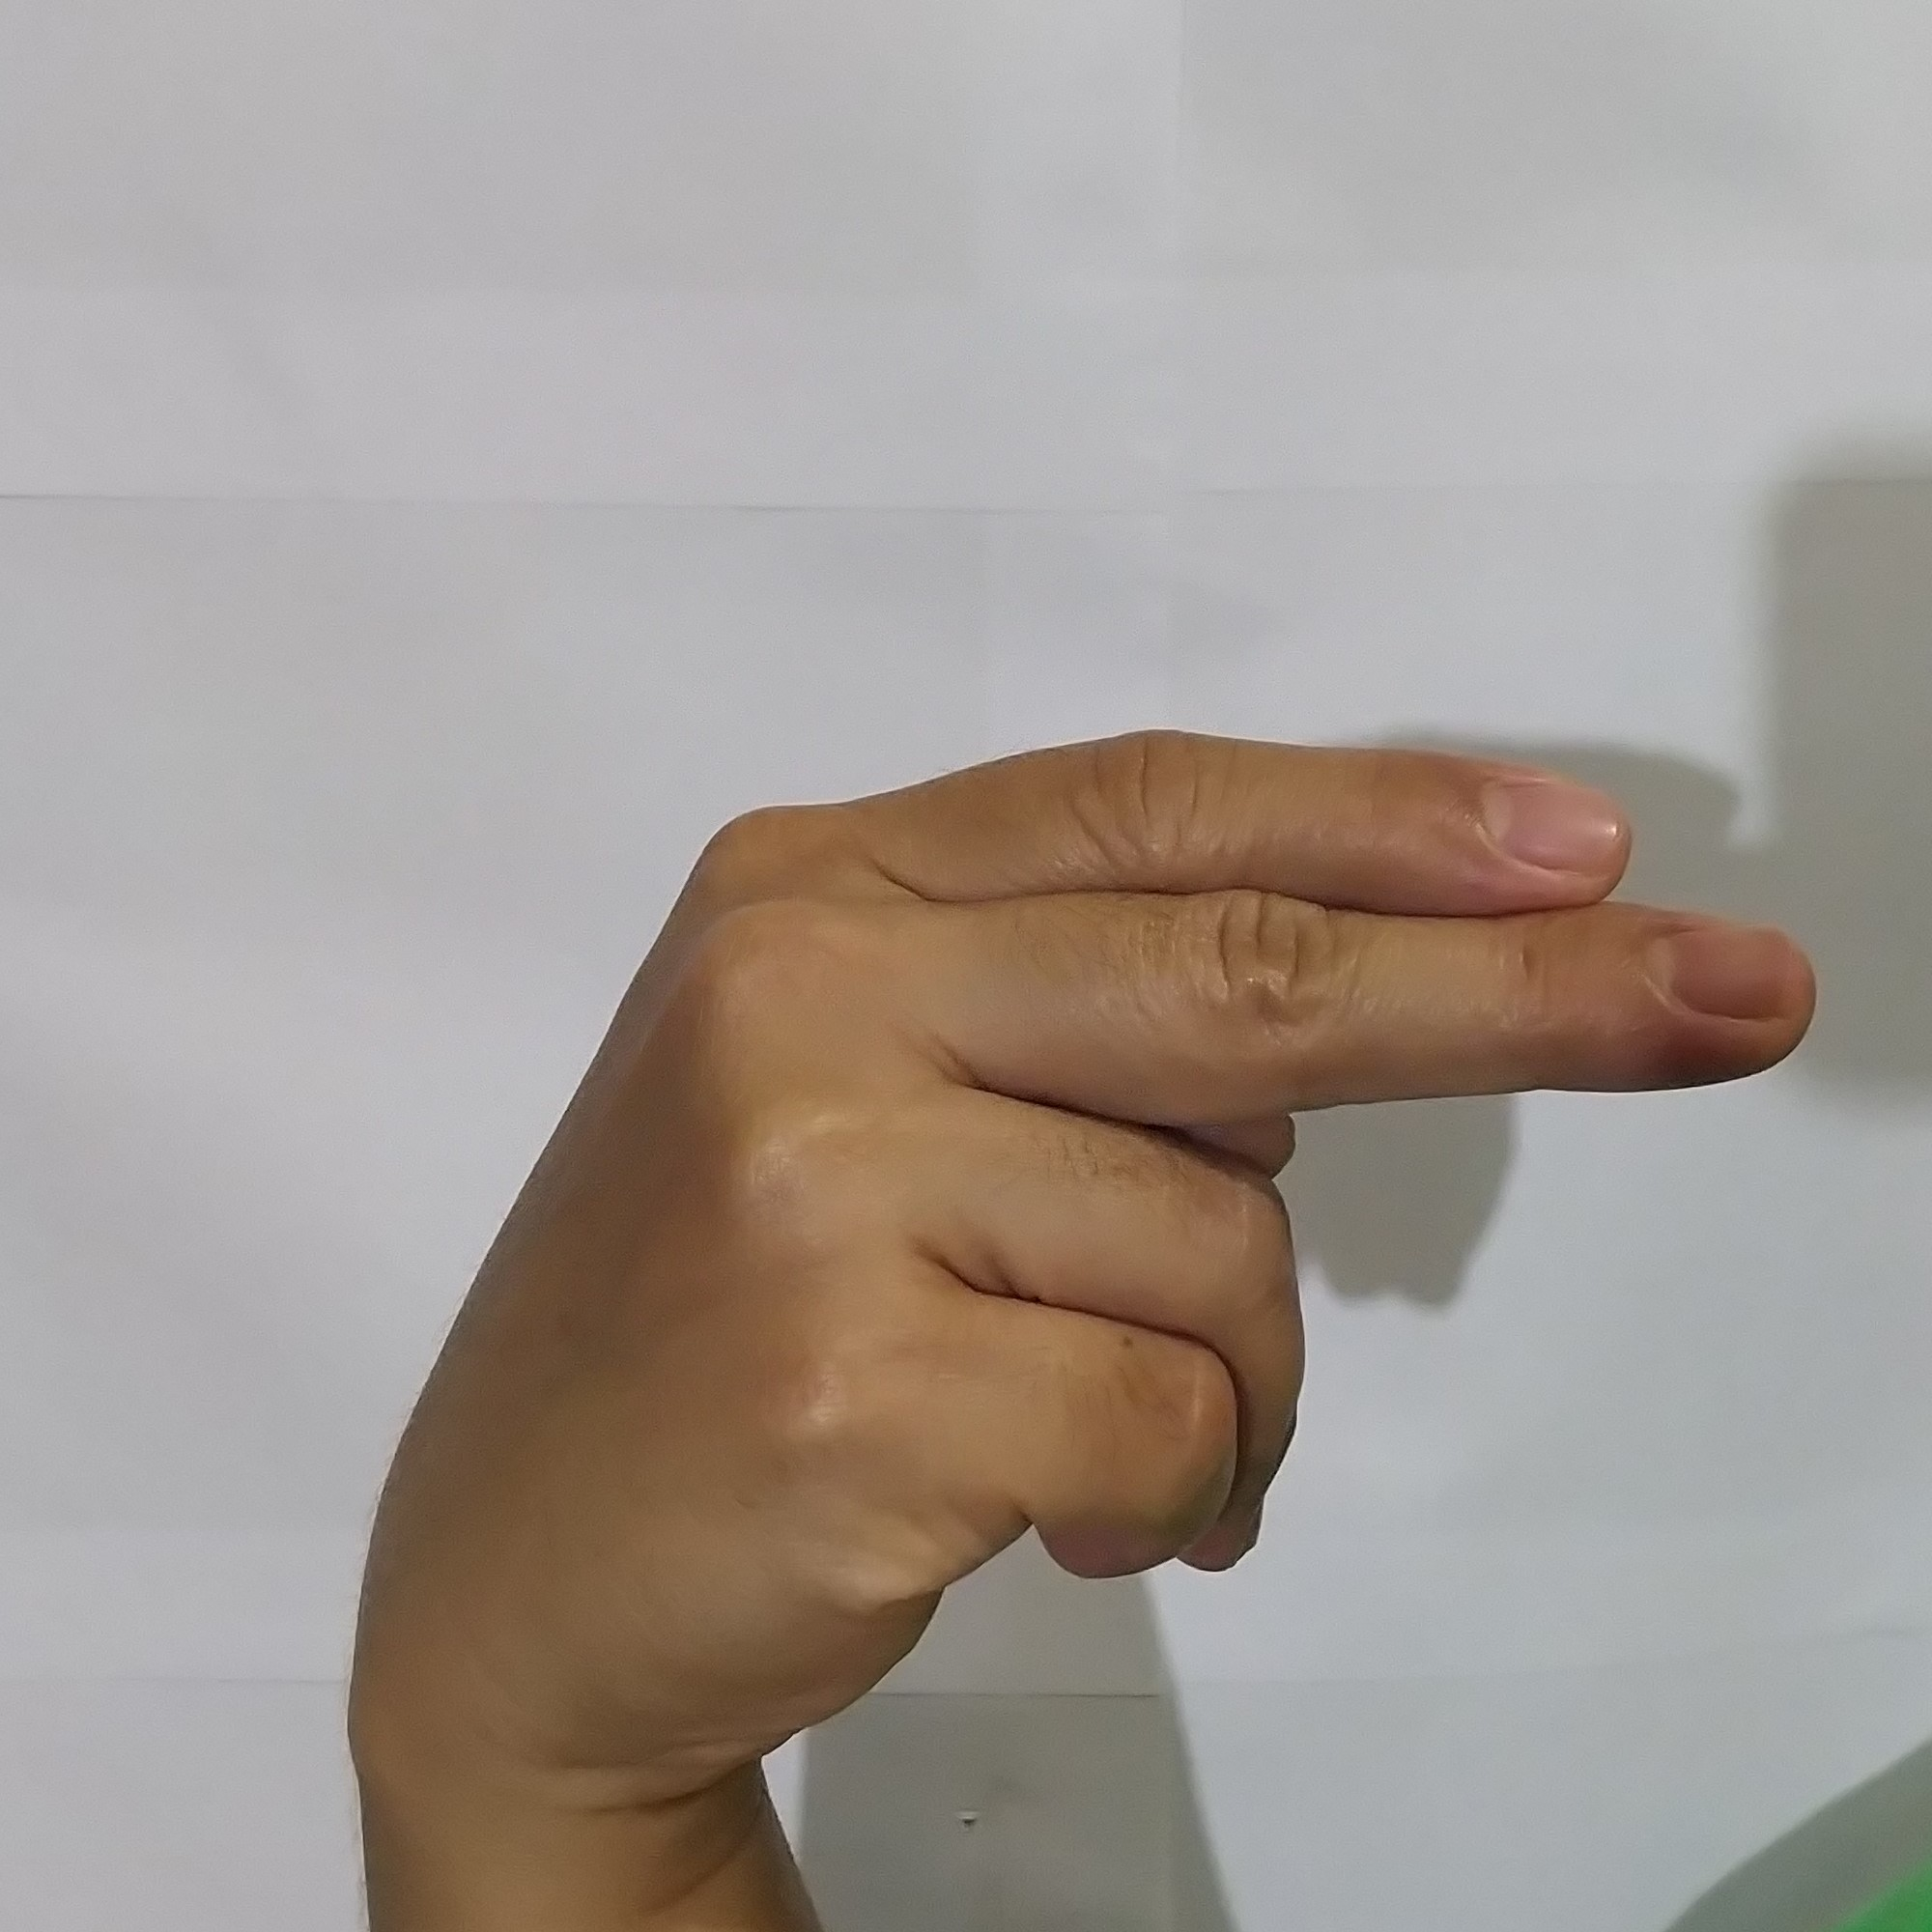H: (352, 706, 1840, 1766)
